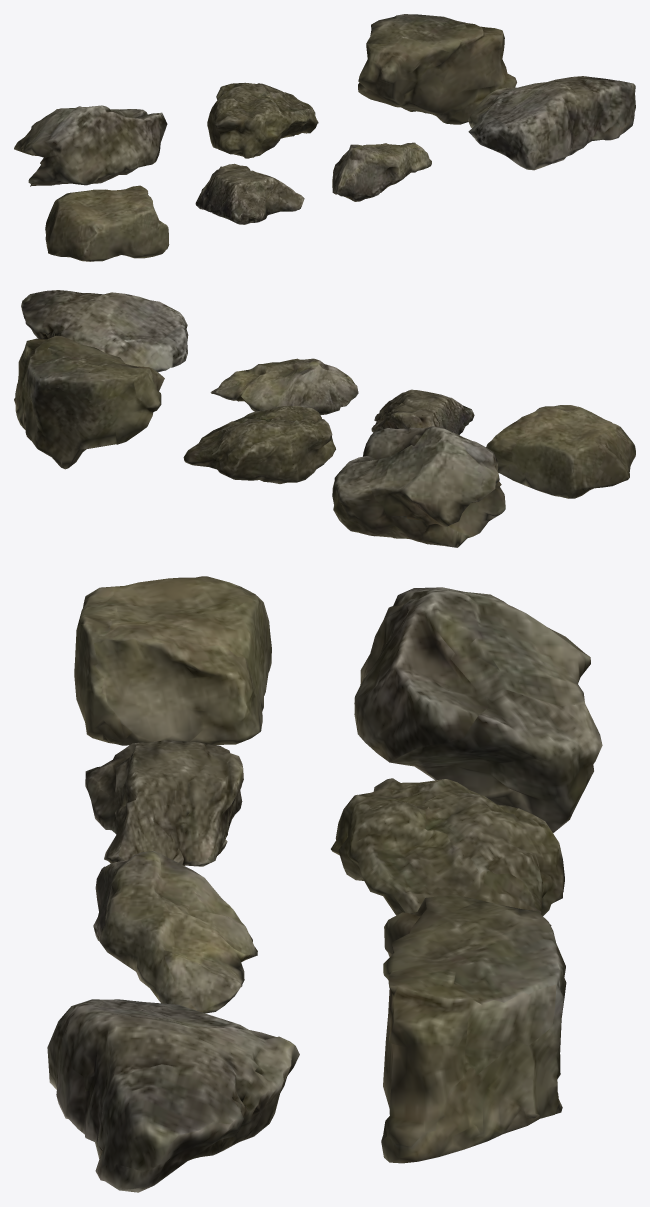
Rendered from rock_moss_set_02.glb.
3 renders of one model, top to bottom at view 1: azimuth 30°, elevation 25°; view 2: azimuth 150°, elevation 25°; view 3: azimuth 270°, elevation 25°, orthographic. The views are drawn at different scales.
Parts seen in each view (by area): view 1: rock_moss_set_02_rock13, rock_moss_set_02_rock10, rock_moss_set_02_rock11, rock_moss_set_02_rock07, rock_moss_set_02_rock12, rock_moss_set_02_rock08, rock_moss_set_02_rock09; view 2: rock_moss_set_02_rock11, rock_moss_set_02_rock13, rock_moss_set_02_rock07, rock_moss_set_02_rock10, rock_moss_set_02_rock12, rock_moss_set_02_rock09, rock_moss_set_02_rock08; view 3: rock_moss_set_02_rock13, rock_moss_set_02_rock11, rock_moss_set_02_rock10, rock_moss_set_02_rock07, rock_moss_set_02_rock12, rock_moss_set_02_rock09, rock_moss_set_02_rock08.
Part boxes in pixels (<box>): rock_moss_set_02_rock13: <box>358,14,516,124</box>; rock_moss_set_02_rock10: <box>468,76,635,170</box>; rock_moss_set_02_rock11: <box>14,105,167,186</box>; rock_moss_set_02_rock07: <box>45,185,169,261</box>; rock_moss_set_02_rock12: <box>207,82,318,158</box>; rock_moss_set_02_rock08: <box>195,163,304,224</box>; rock_moss_set_02_rock09: <box>332,142,431,201</box>; rock_moss_set_02_rock11: <box>332,426,505,547</box>; rock_moss_set_02_rock13: <box>14,336,164,469</box>; rock_moss_set_02_rock07: <box>486,405,635,498</box>; rock_moss_set_02_rock10: <box>21,290,188,372</box>; rock_moss_set_02_rock12: <box>183,405,335,483</box>; rock_moss_set_02_rock09: <box>210,358,358,415</box>; rock_moss_set_02_rock08: <box>371,389,474,434</box>; rock_moss_set_02_rock13: <box>381,894,566,1163</box>; rock_moss_set_02_rock11: <box>354,587,602,832</box>; rock_moss_set_02_rock10: <box>47,999,299,1192</box>; rock_moss_set_02_rock07: <box>74,576,271,745</box>; rock_moss_set_02_rock12: <box>331,778,564,925</box>; rock_moss_set_02_rock09: <box>93,851,257,1013</box>; rock_moss_set_02_rock08: <box>85,740,243,866</box>.
Bounding box in the file's own units: 8.28 × 1.37 × 3.41.
1 material, 1 textured.
